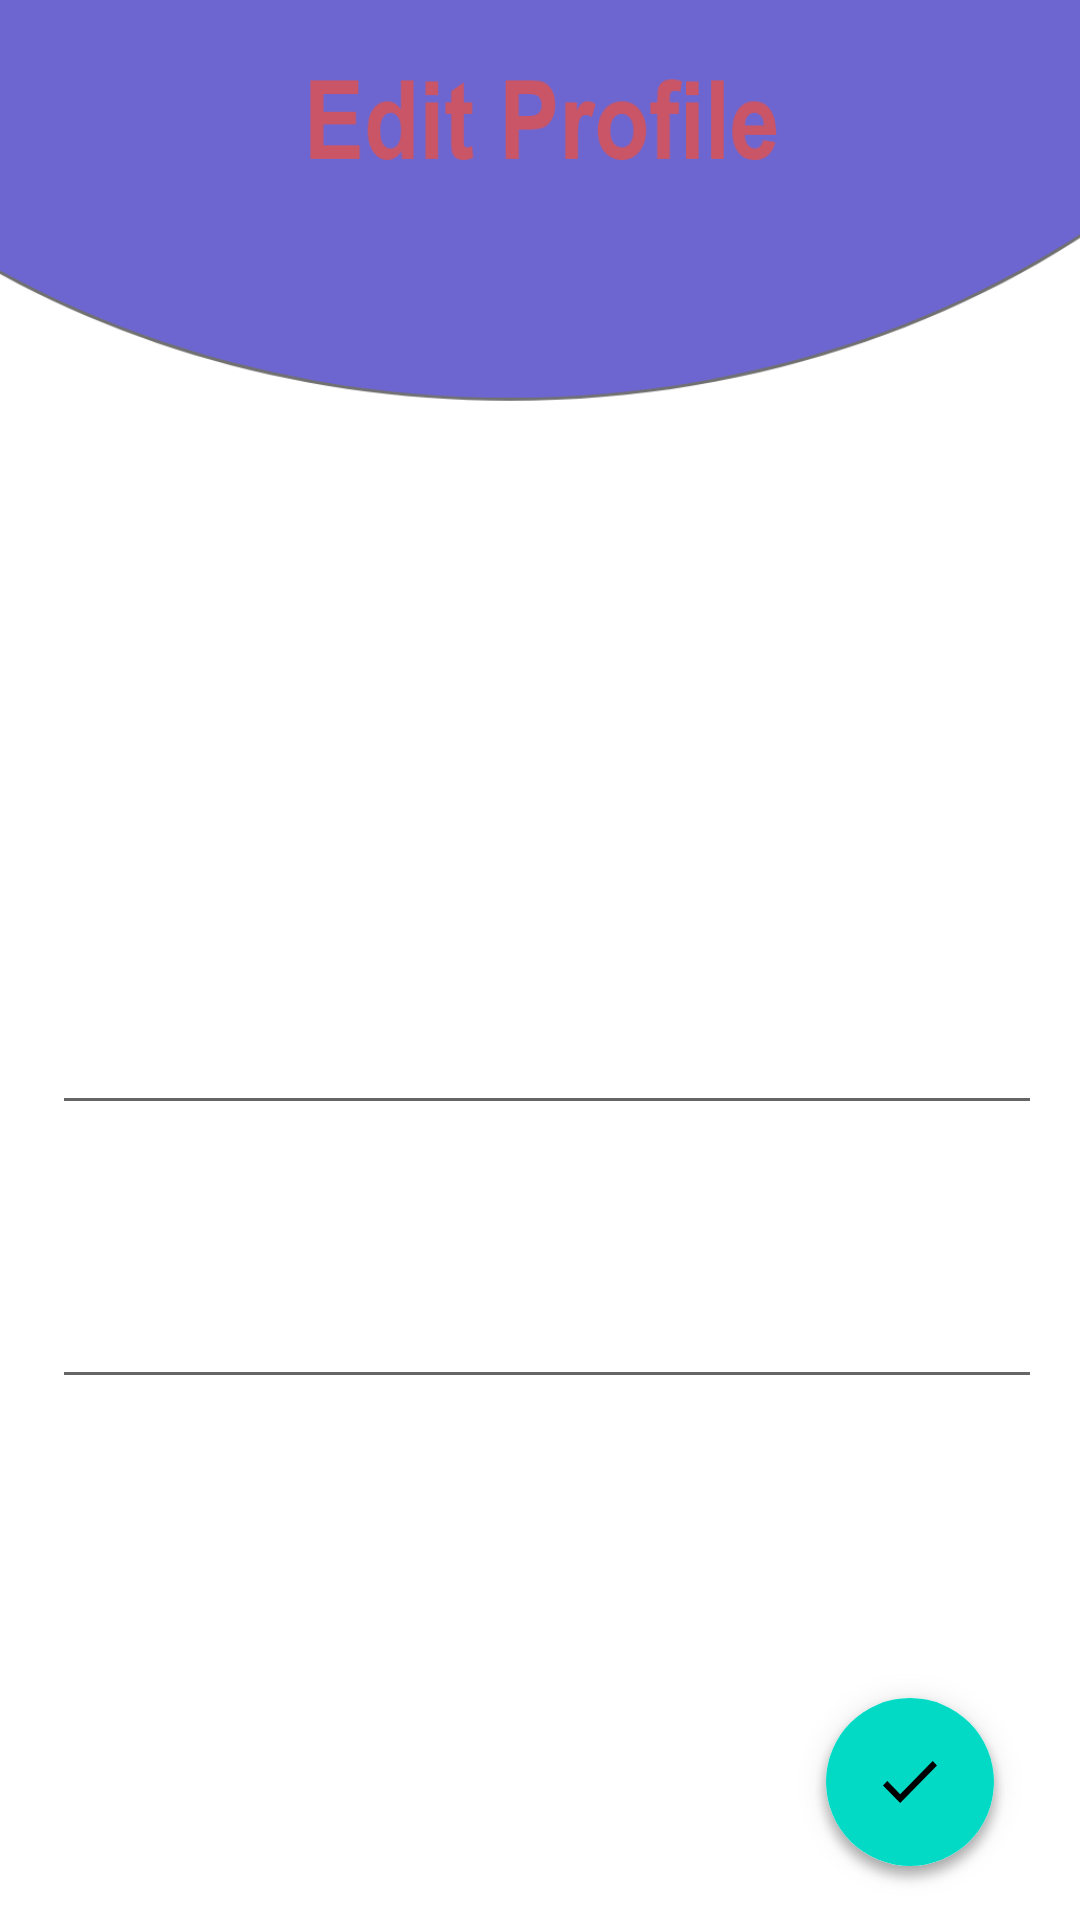

Named icons in this screenshot (1080*1920) and their centers, point (x, y):
verification: point (910, 1788)
